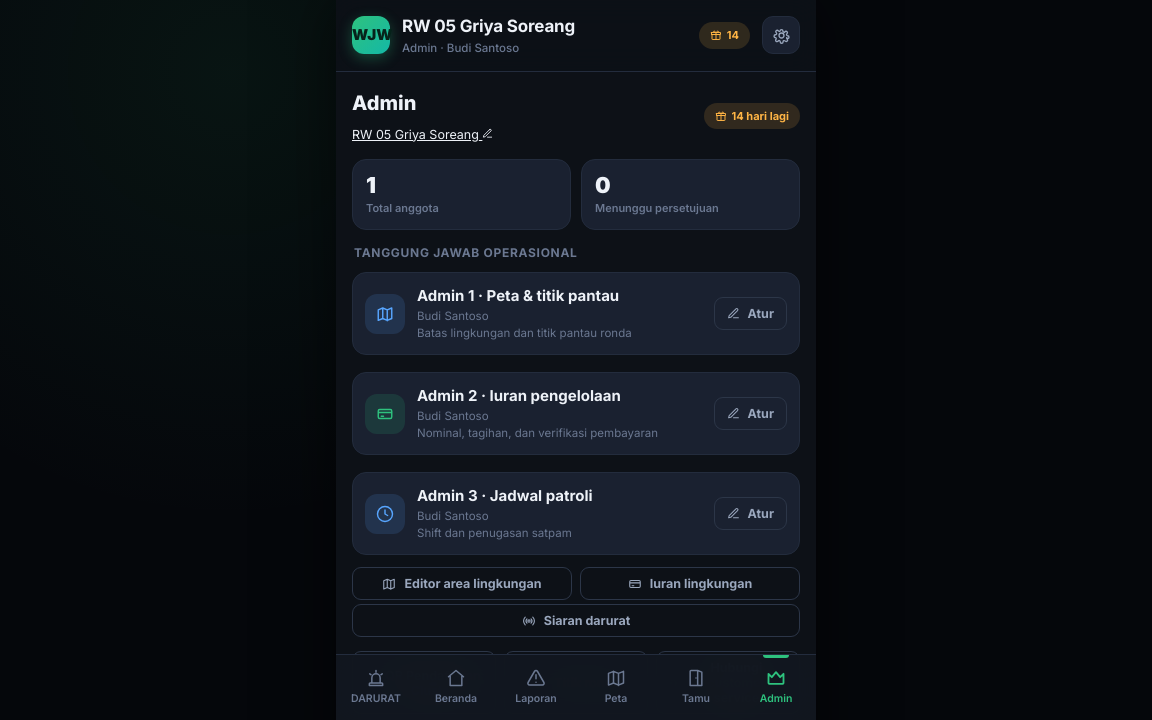
halaman Admin › menyediakan cara mengganti nama lingkungan
Step 1. Click the button "RW 05 Griya Soreang" → [423, 135], box [352,126,493,145]
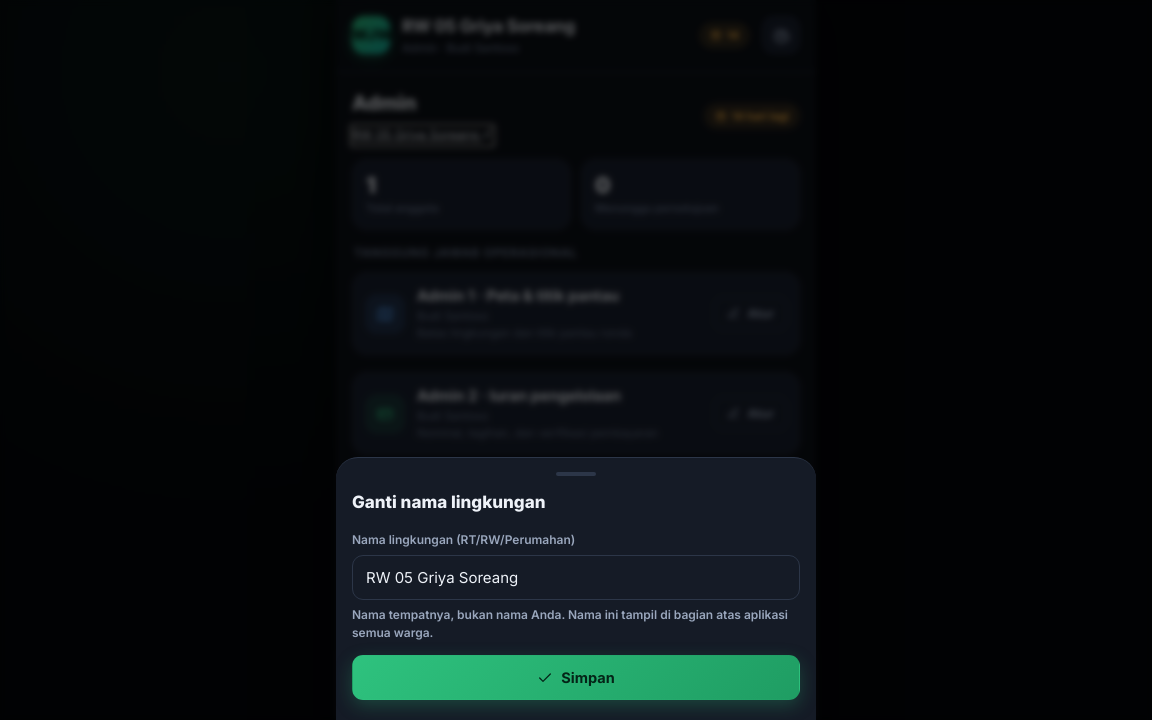
Step 2. Type "RW 07 Melati" into the field showing "RW 05 Griya Soreang" → [576, 578], box [352,555,800,600]
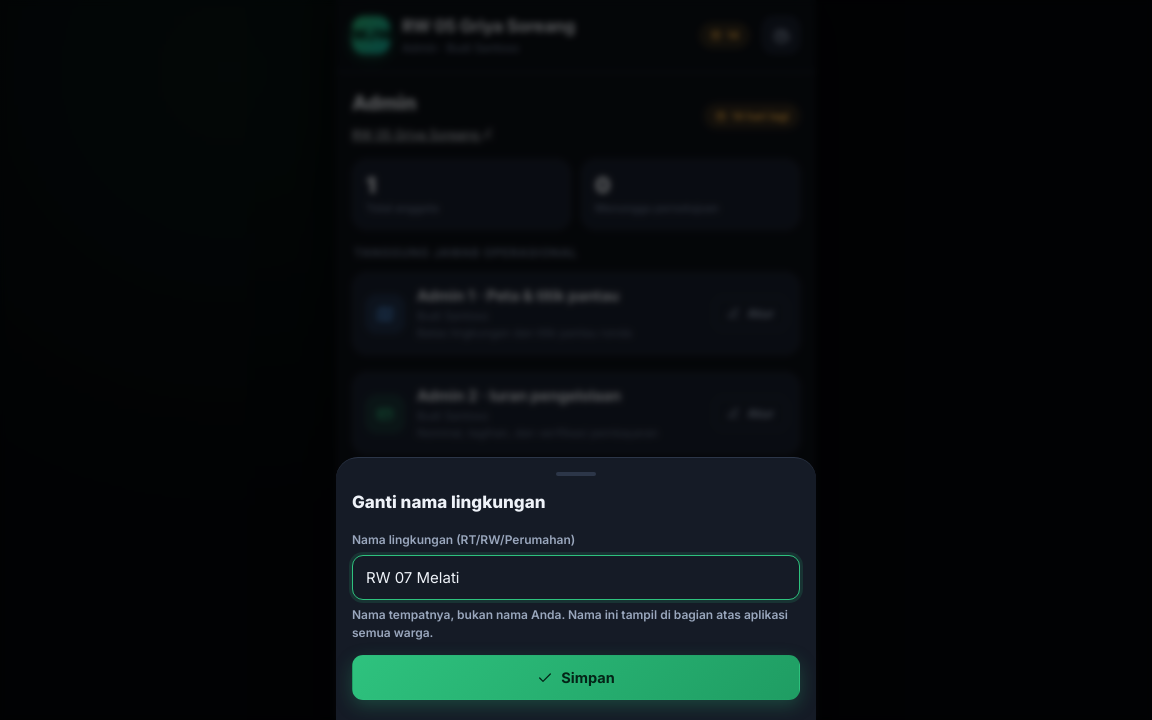
Step 3. Click the button "Simpan" → [576, 678], box [352,655,800,700]
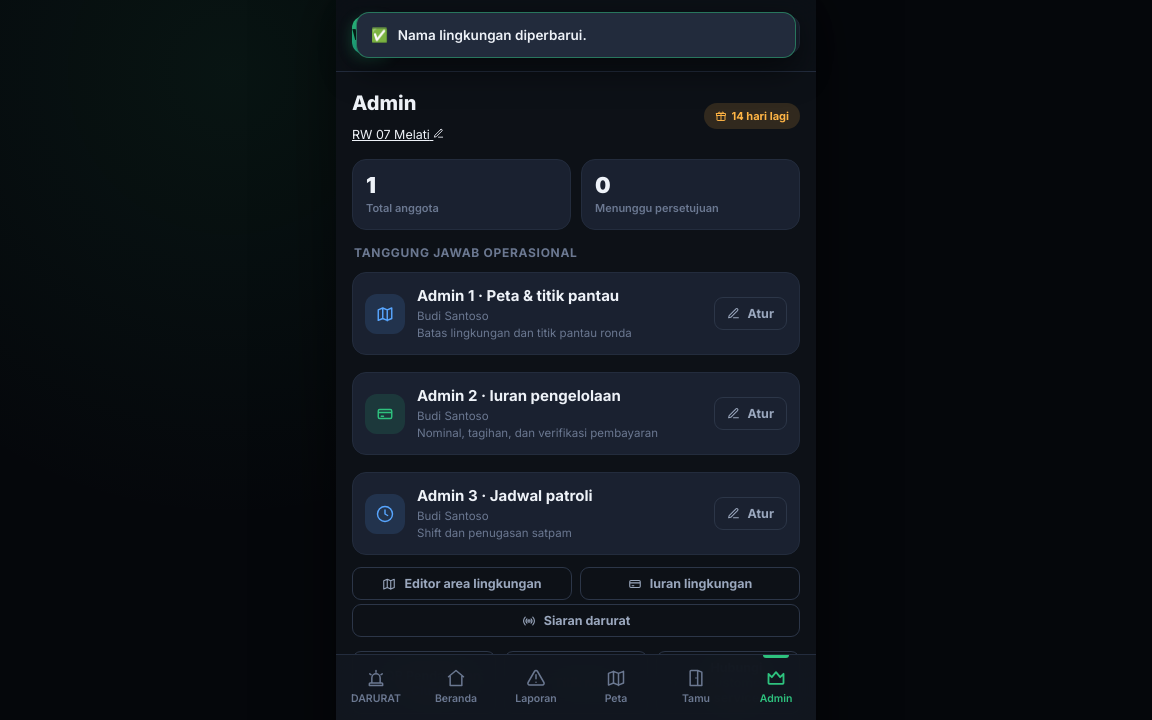
Check: the heading "RW 07 Melati" is shown, box [402,16,509,36]
